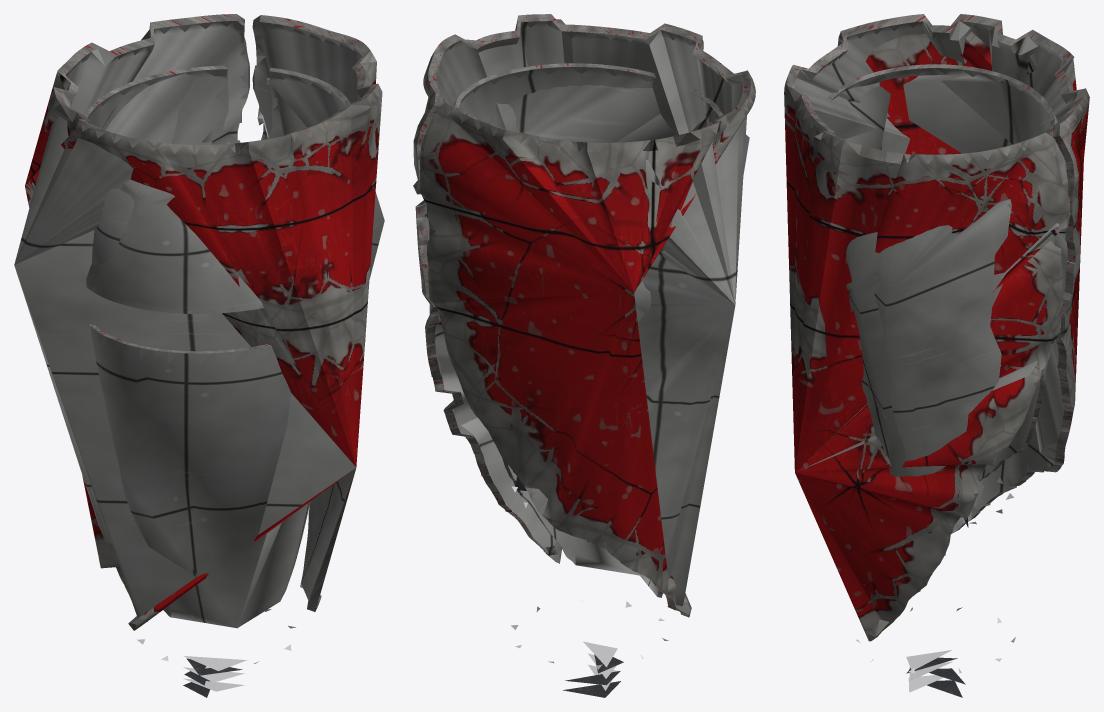
Rendered from baymax_forearm_shell_lod2.glb.
The picture shows the model from 3 angles, left to right: view 1: azimuth 30°, elevation 25°; view 2: azimuth 150°, elevation 25°; view 3: azimuth 270°, elevation 25°; orthographic projection.
Parts seen in each view (by area): view 1: baymax_forearm_shell; view 2: baymax_forearm_shell; view 3: baymax_forearm_shell.
Boxes of the visible parts, bbox=[...] form: baymax_forearm_shell: bbox=[14, 14, 384, 697]; baymax_forearm_shell: bbox=[413, 14, 755, 697]; baymax_forearm_shell: bbox=[784, 14, 1089, 697].
Bounding box in the file's own units: 0.5819 × 1.04 × 0.4739.
Materials: 7 (4 with a texture image).
